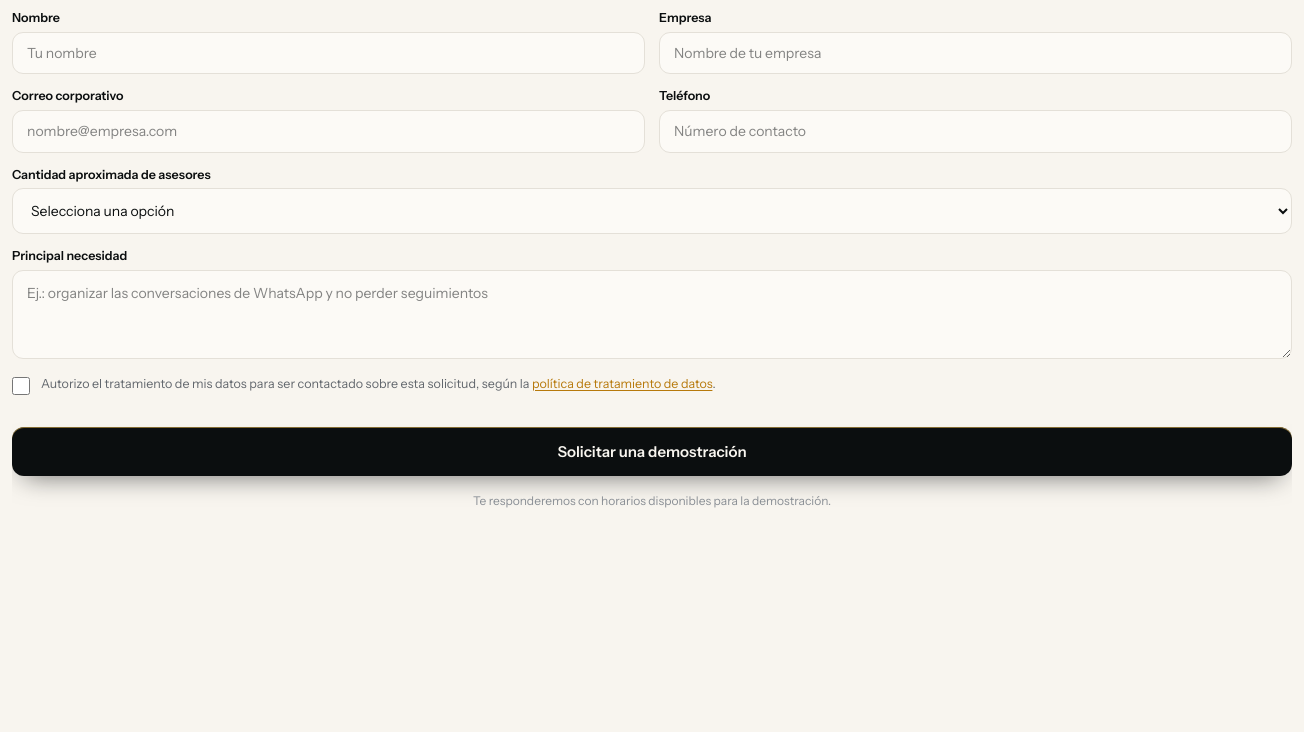
DemoForm › limpia el error de un campo al corregirlo
Click the button "Solicitar una demostración": (652, 451) x1=12 y1=427 x2=1292 y2=476
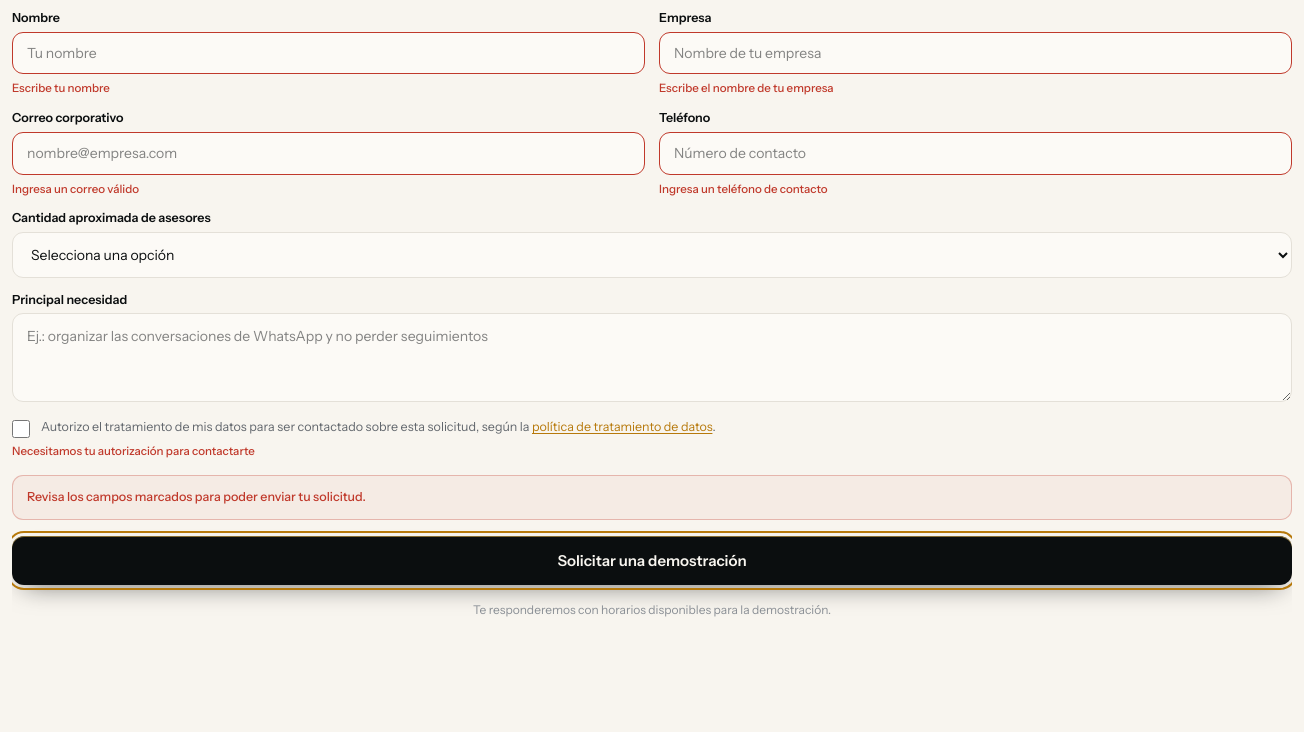
Result: the text "Escribe tu nombre" is shown at x1=12 y1=81 x2=110 y2=95
In the field labelled "Nombre": (328, 53) x1=12 y1=32 x2=645 y2=74, type "María"
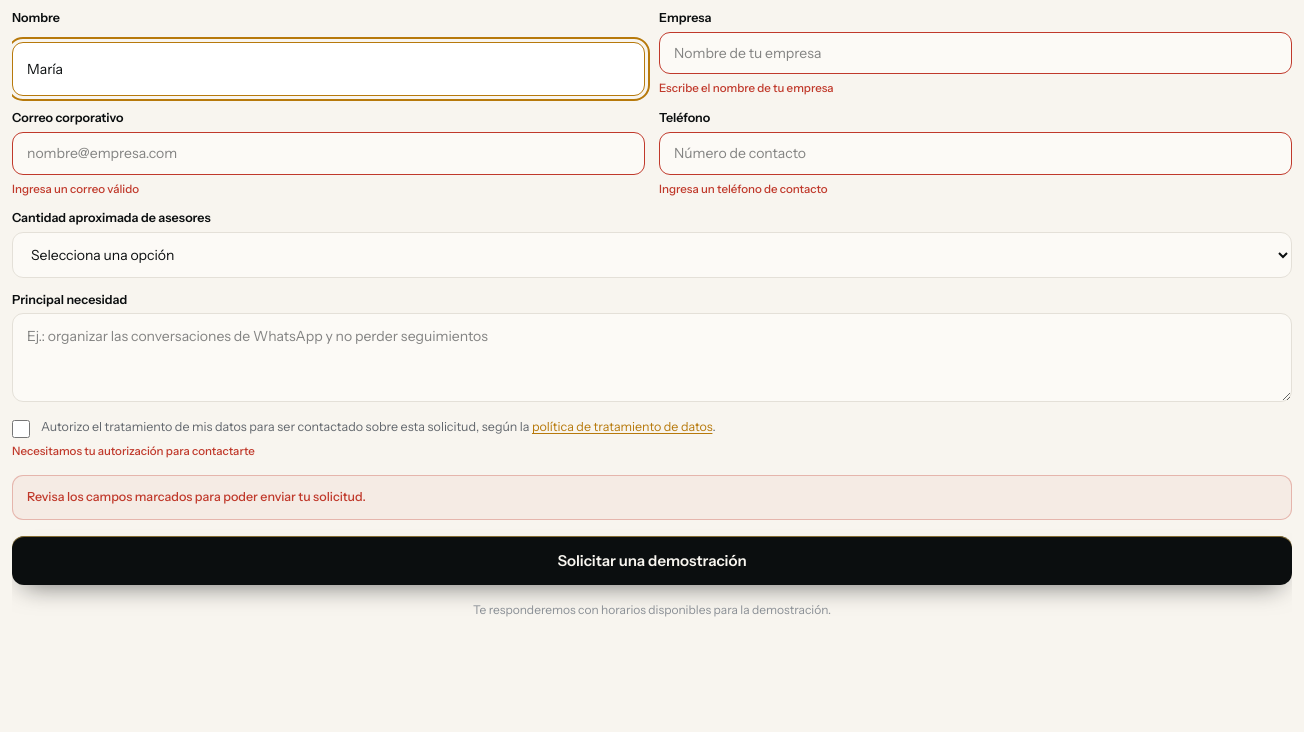
Result: the text "Escribe tu nombre" is gone
